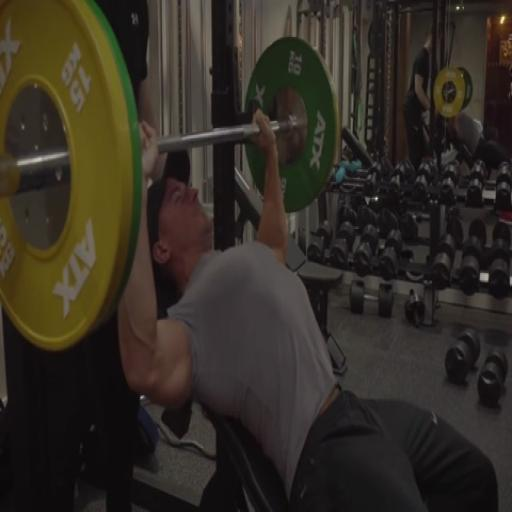exercise: (114, 108, 501, 511)
